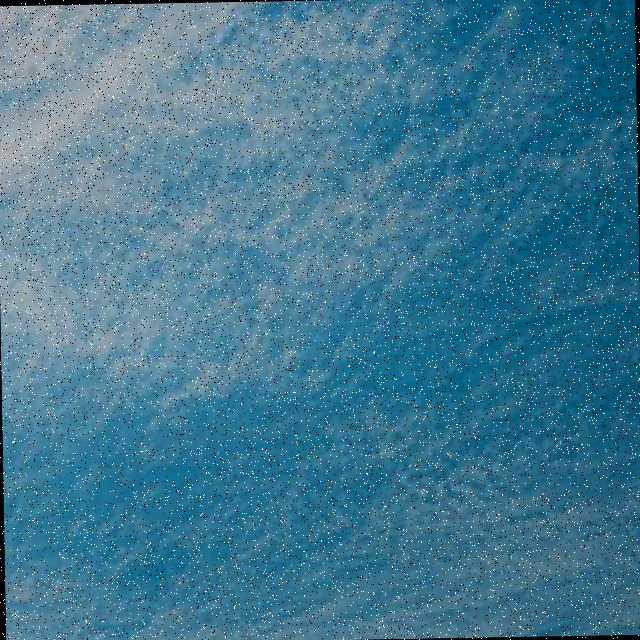Cc: (1, 19, 640, 607)
